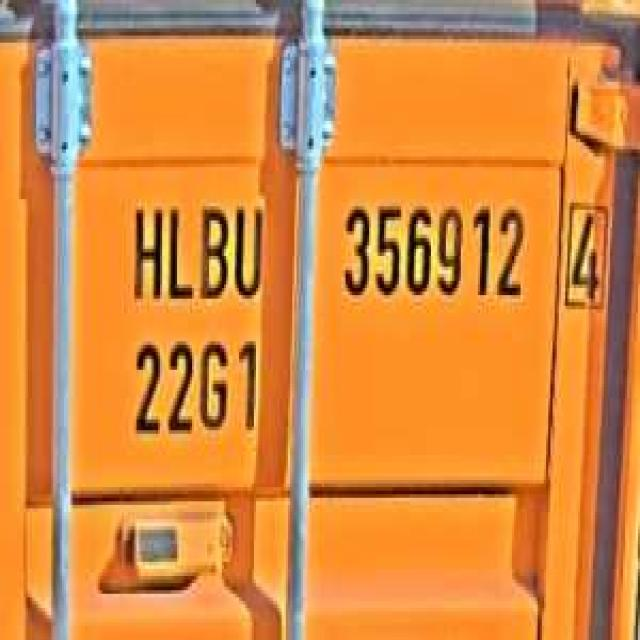dv: (561, 188, 614, 316)
owner: (126, 188, 267, 310)
serial: (333, 188, 531, 316)
size: (126, 327, 264, 445)
